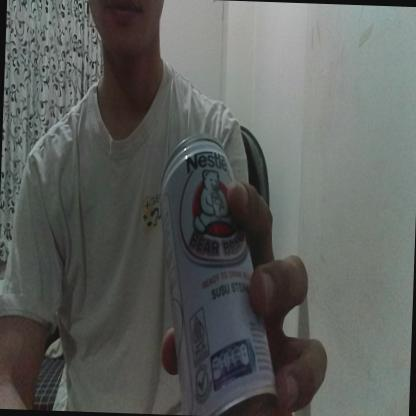alumunium_can: (152, 132, 288, 413)
